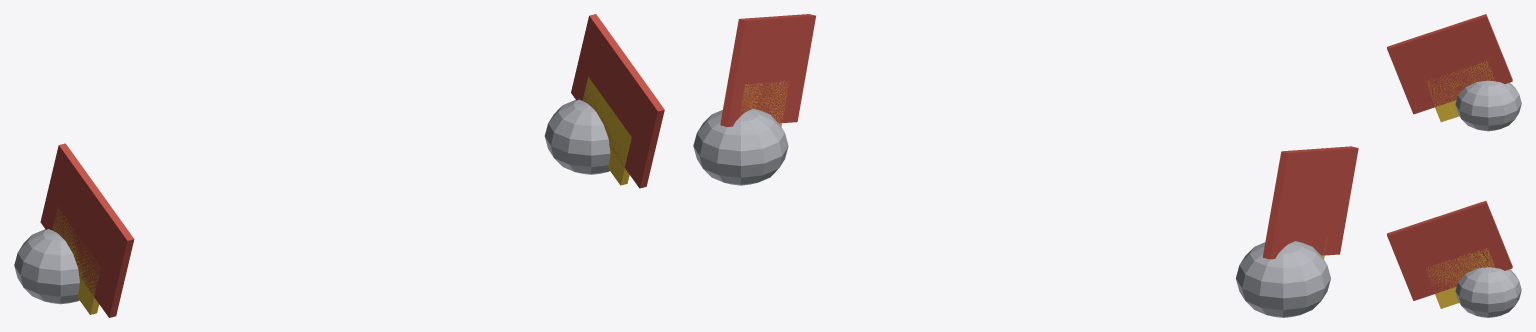
File: draft-fin.glb
3 renders of one model, left to right at view 1: azimuth 30°, elevation 25°; view 2: azimuth 150°, elevation 25°; view 3: azimuth 270°, elevation 25°, orthographic. The views are drawn at different scales.
Visible parts, largest first — view 1: fin_r, fin_l, cap_r, cap_l, fin2_l, fin2_r; view 2: fin_r, fin_l, cap_l, cap_r, fin2_l; view 3: fin_r, fin_l, cap_l, cap_r, fin2_l, fin2_r.
Part boxes in pixels (x1,y1,x2,y2): fin_r: (40,143,134,317); fin_l: (571,14,664,188); cap_r: (14,229,79,304); cap_l: (544,99,610,174); fin2_l: (582,77,631,185); fin2_r: (52,207,99,314); fin_r: (1262,146,1358,259); fin_l: (720,14,815,126); cap_l: (693,108,788,185); cap_r: (1236,241,1330,317); fin2_l: (740,81,788,126); fin_r: (1387,14,1512,114); fin_l: (1387,201,1512,300); cap_l: (1455,267,1521,317); cap_r: (1455,80,1521,131); fin2_l: (1426,248,1494,308); fin2_r: (1426,61,1495,122).
Bounding box in the file's own units: 1.06 × 0.2587 × 0.2807.
